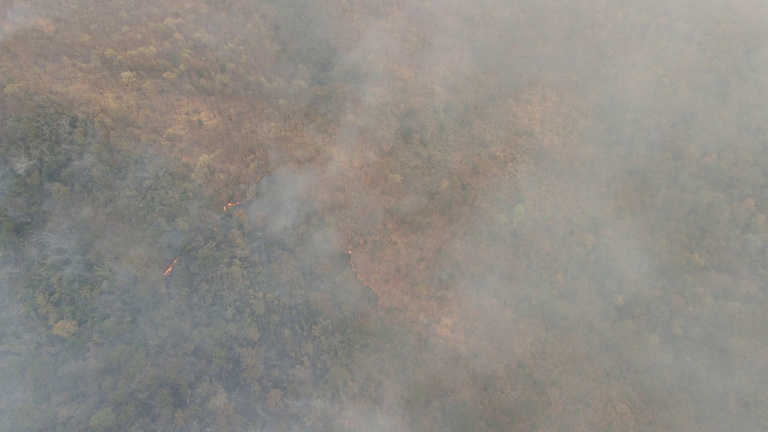fire: (207, 170, 281, 227), (328, 239, 379, 296), (153, 248, 189, 281)
smoke: (1, 208, 768, 429), (250, 1, 761, 216)
